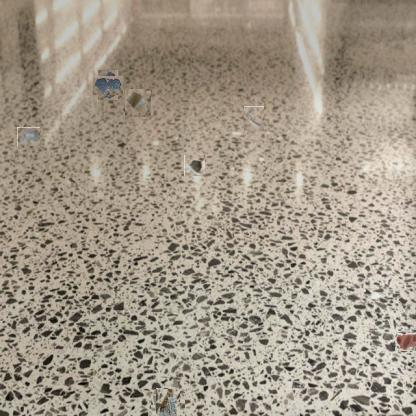dirty: (154, 389, 183, 416), (125, 89, 151, 117), (244, 106, 264, 131), (184, 155, 205, 176), (18, 126, 39, 147)
liquid: (96, 73, 120, 97), (395, 331, 416, 352)
